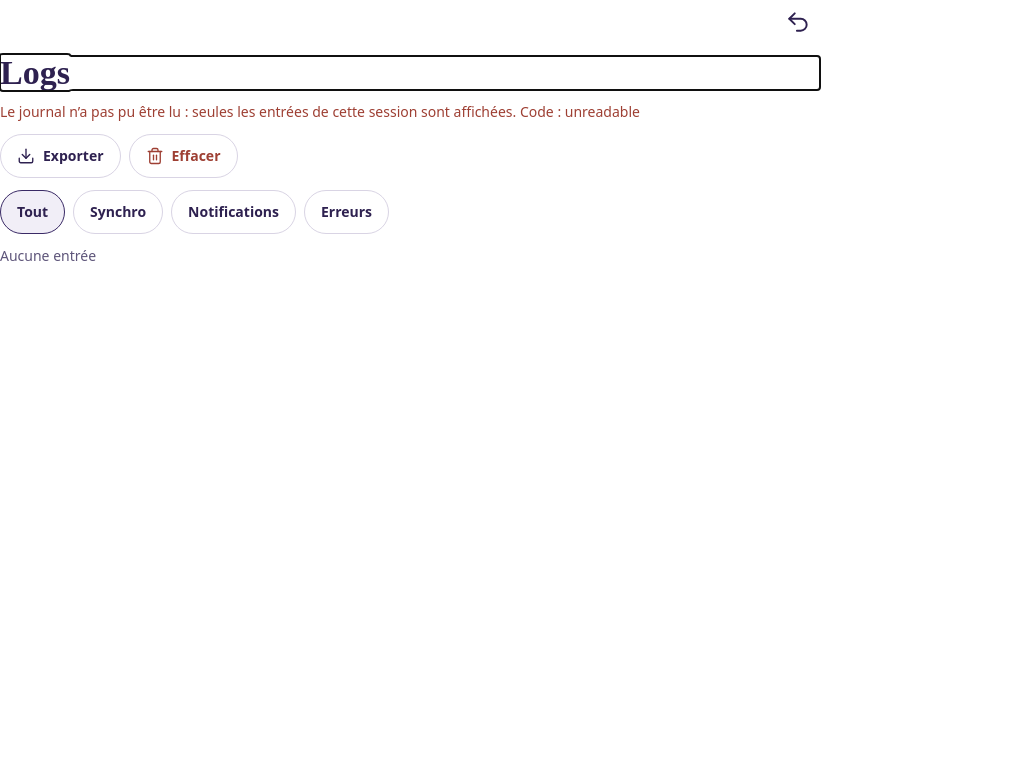
Test: I-04 / FILES-IOS-01 QA : états d’échec de l’écran Logs › I-04 critère 10 : journal illisible (fichier corrompu côté Rust) -> message avec code, et « Effacer » permet de repartir
Click the button "Effacer" at (183, 156), box [128,134,238,178]
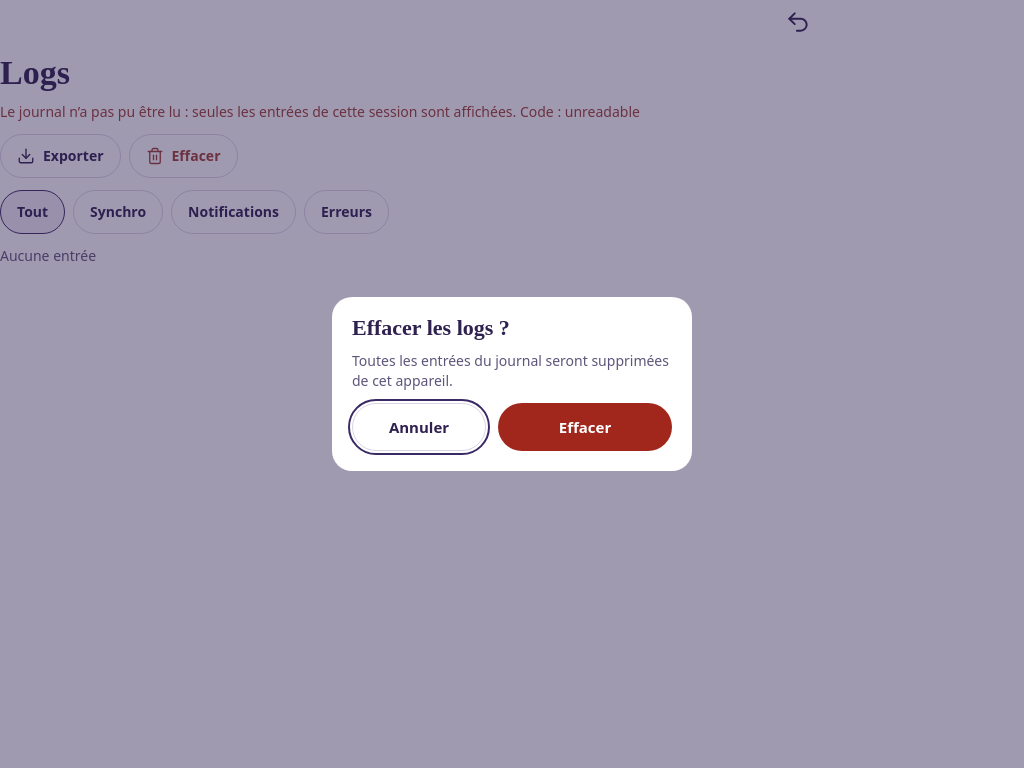
Click the button "Effacer" at (585, 427), box [498,403,672,451]
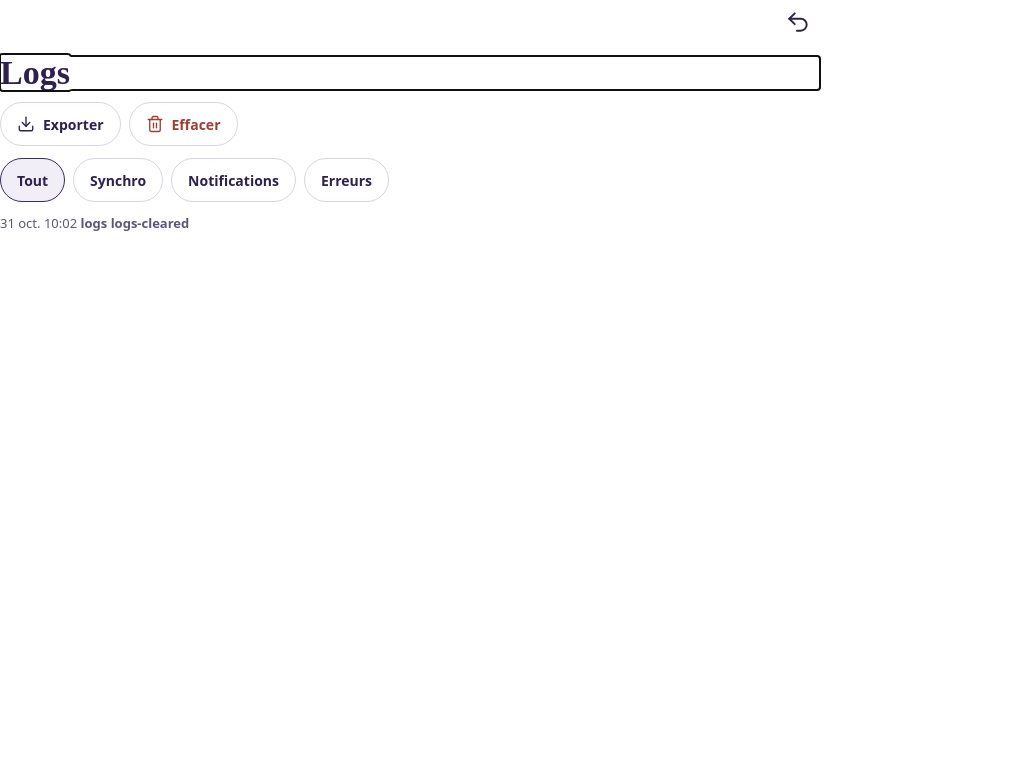
expect the text "Le journal n’a pas pu être lu" is gone: met
